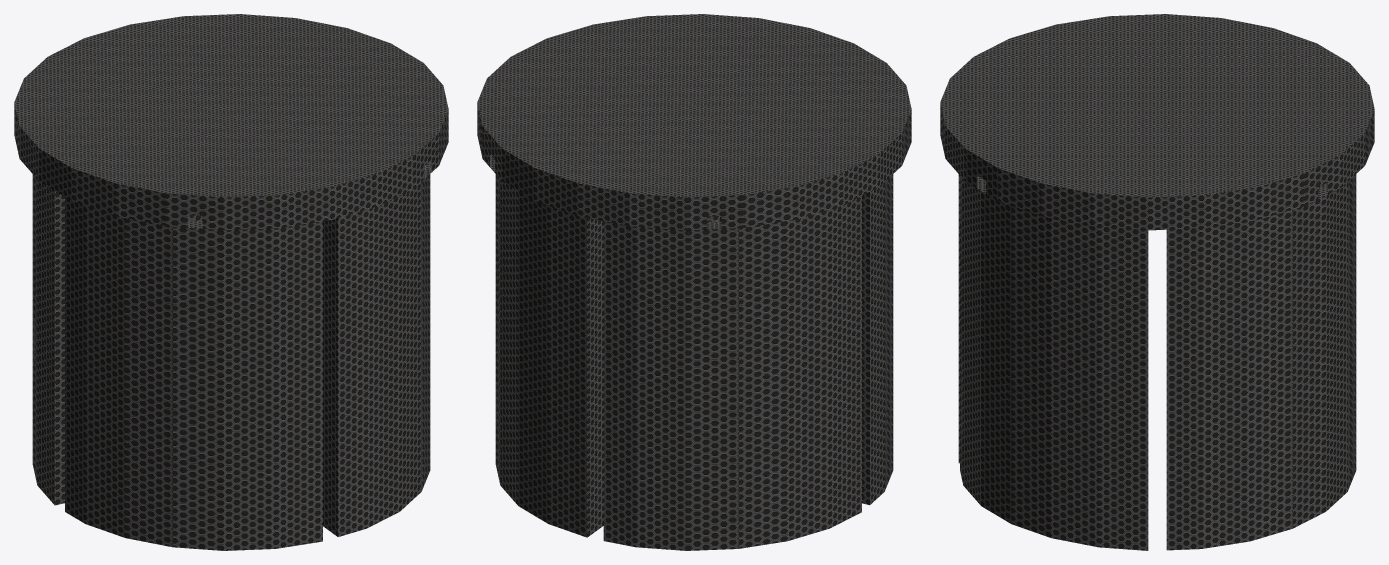
Rendered from room-4-2.dae.
3 renders of one model, left to right at view 1: azimuth 30°, elevation 25°; view 2: azimuth 150°, elevation 25°; view 3: azimuth 270°, elevation 25°, orthographic.
Parts seen in each view (by area): view 1: room-col; view 2: room-col; view 3: room-col.
Boxes of the visible parts, <box> form: room-col: <box>14,14,448,550</box>; room-col: <box>477,14,911,550</box>; room-col: <box>940,14,1374,550</box>.
Size of what is drawn, in the model's own units: 120 by 120 by 110.
